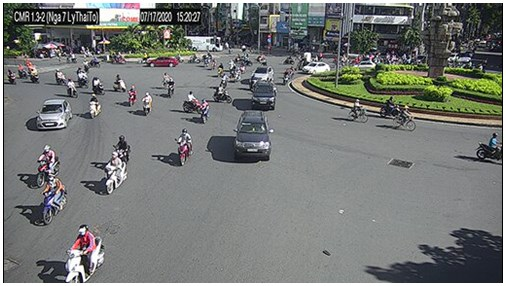xe_dap: (393, 105, 415, 132), (347, 98, 368, 123)
xe_hoi: (232, 111, 271, 161), (35, 99, 71, 130), (251, 83, 276, 109), (251, 65, 274, 84), (301, 61, 329, 75), (145, 56, 177, 67), (110, 50, 126, 65), (350, 61, 376, 70)
xe_may: (64, 225, 104, 283), (41, 172, 68, 224), (104, 152, 129, 194), (36, 145, 60, 188), (476, 133, 502, 163), (113, 135, 132, 171), (177, 128, 193, 166), (380, 96, 402, 120), (182, 91, 202, 114), (212, 83, 232, 104), (88, 94, 103, 119), (111, 72, 125, 93), (66, 78, 79, 98), (142, 91, 152, 116), (200, 99, 210, 124), (91, 76, 103, 95), (128, 85, 137, 108), (54, 69, 66, 85), (17, 63, 28, 80), (75, 72, 88, 86), (6, 69, 16, 86), (167, 77, 175, 98), (255, 52, 267, 66), (313, 50, 325, 63), (30, 67, 39, 84), (219, 73, 228, 89), (189, 53, 201, 65), (90, 56, 101, 69), (283, 55, 296, 65), (202, 54, 210, 67), (83, 55, 89, 72), (283, 69, 289, 86), (234, 69, 241, 82), (163, 72, 169, 87), (173, 54, 182, 63), (211, 58, 216, 69)
